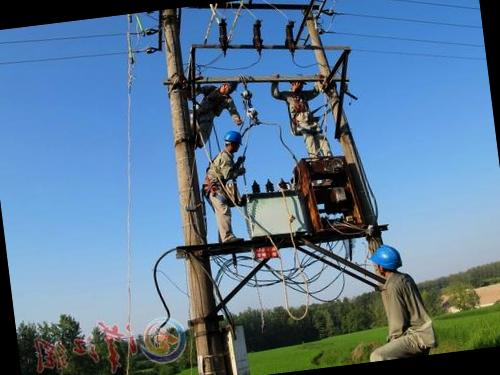person: (356, 238, 434, 360), (196, 127, 261, 244), (270, 68, 333, 164), (182, 73, 250, 147)
